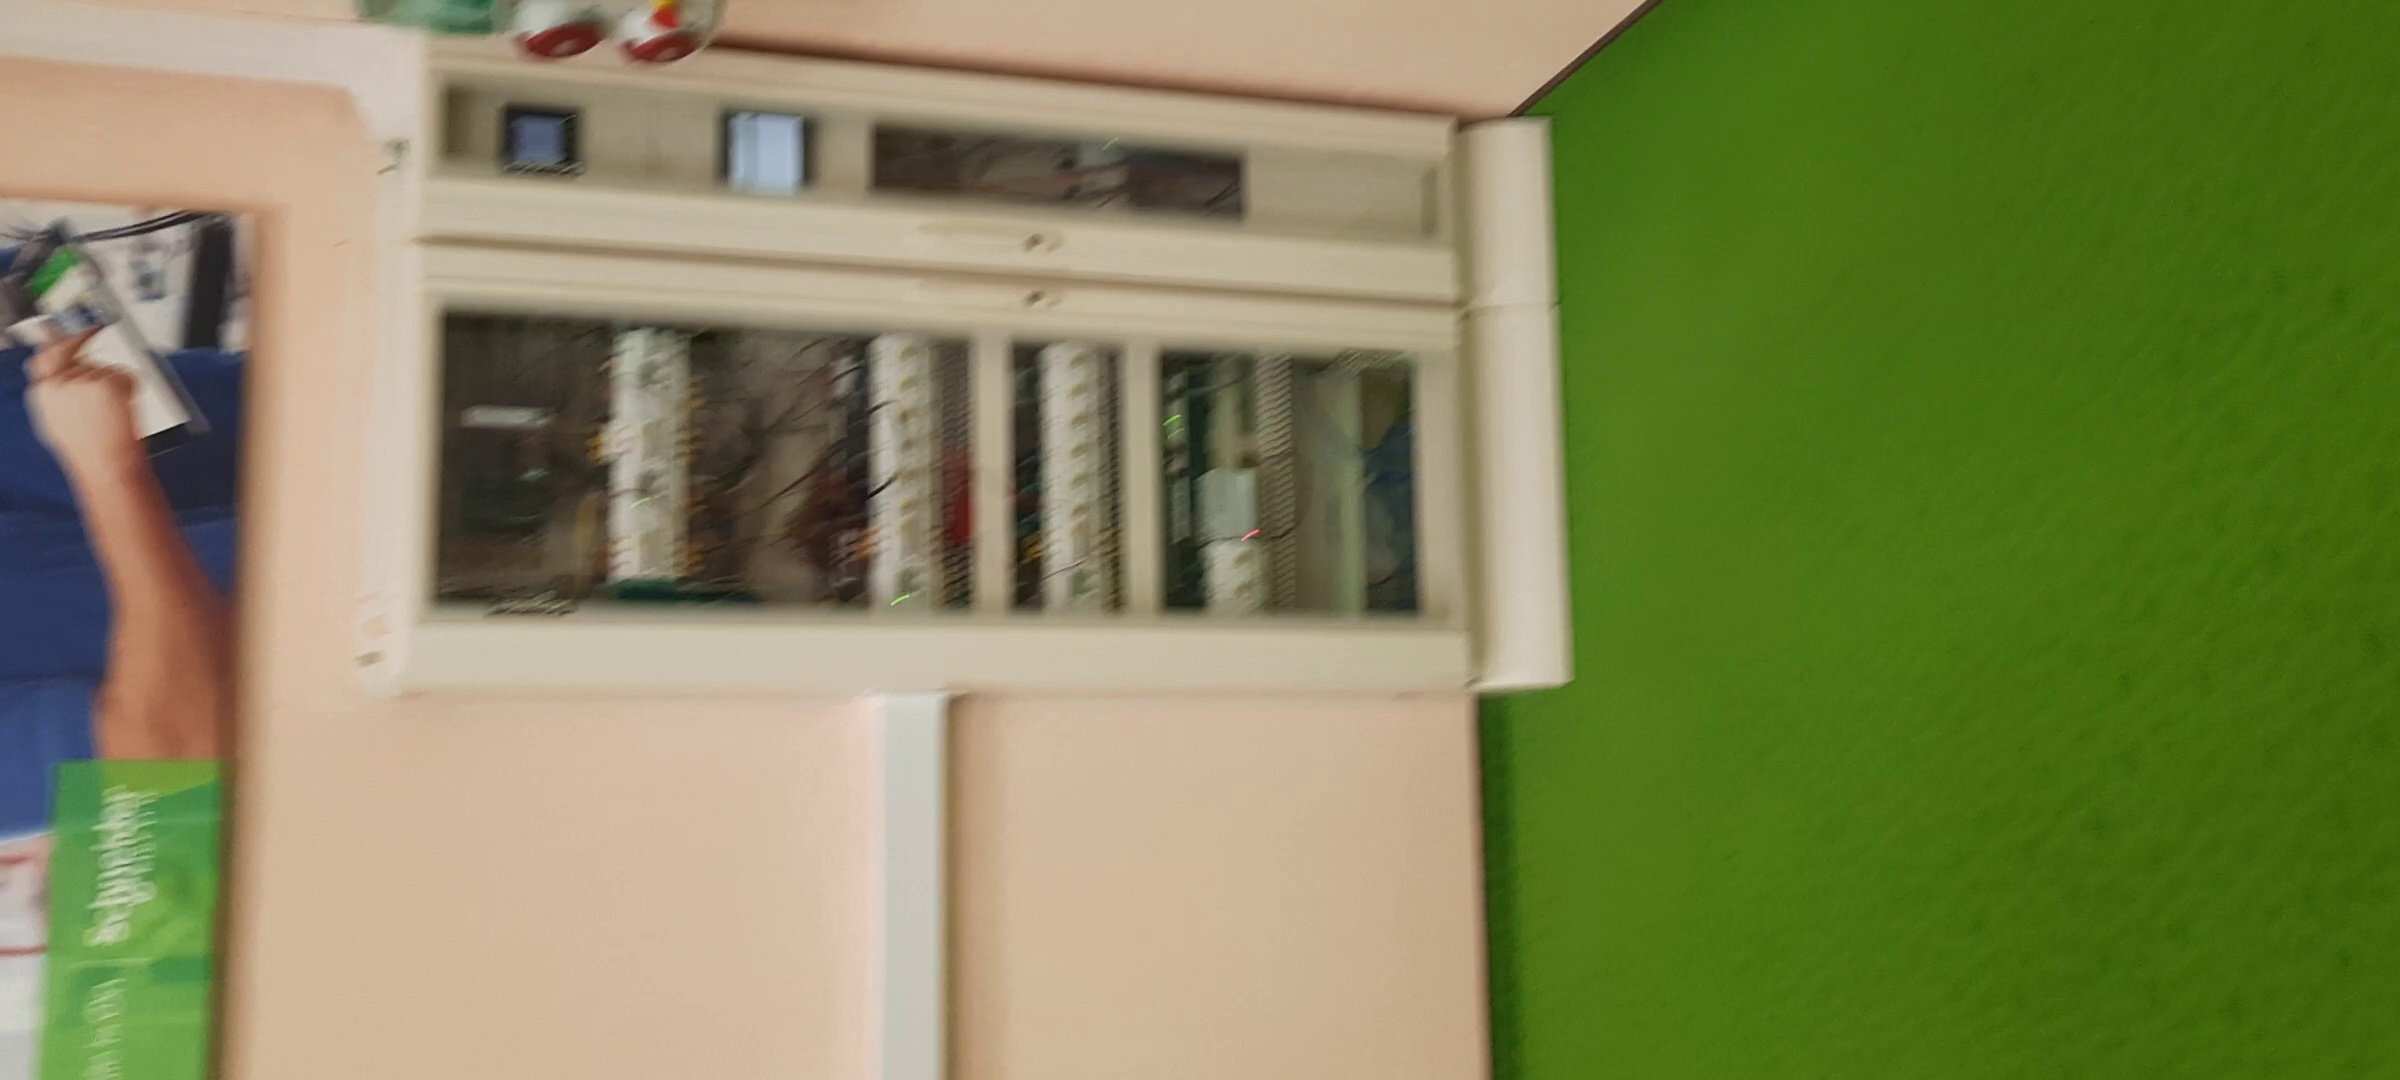stand1: (378, 95, 1564, 688)
